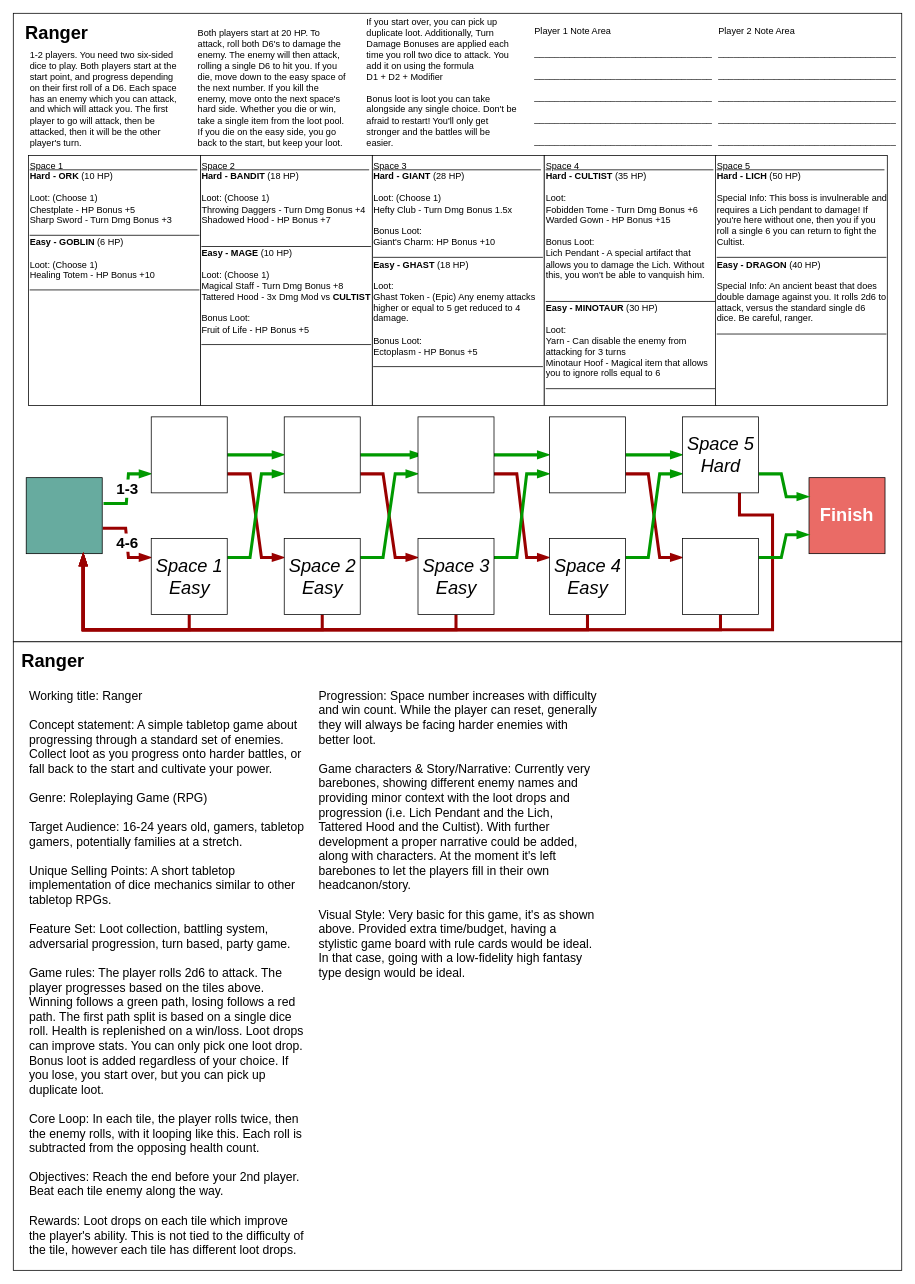
Image size: 915x1284. Some labels were removed from this diagram. Here are the shapes that lost their labels. From the top down, the centre of each, then its label:
(188,454): Space 1 Hard
(321,454): Space 2 Hard
(455,454): Space 3 Hard
(587,454): Space 4 Hard
(63,515): Start
(720,576): Space 5 Easy
